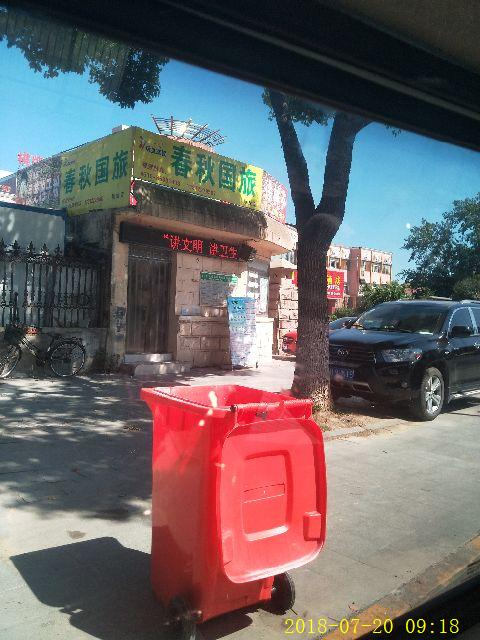multi_signs: (129, 125, 261, 211), (59, 128, 132, 215)
